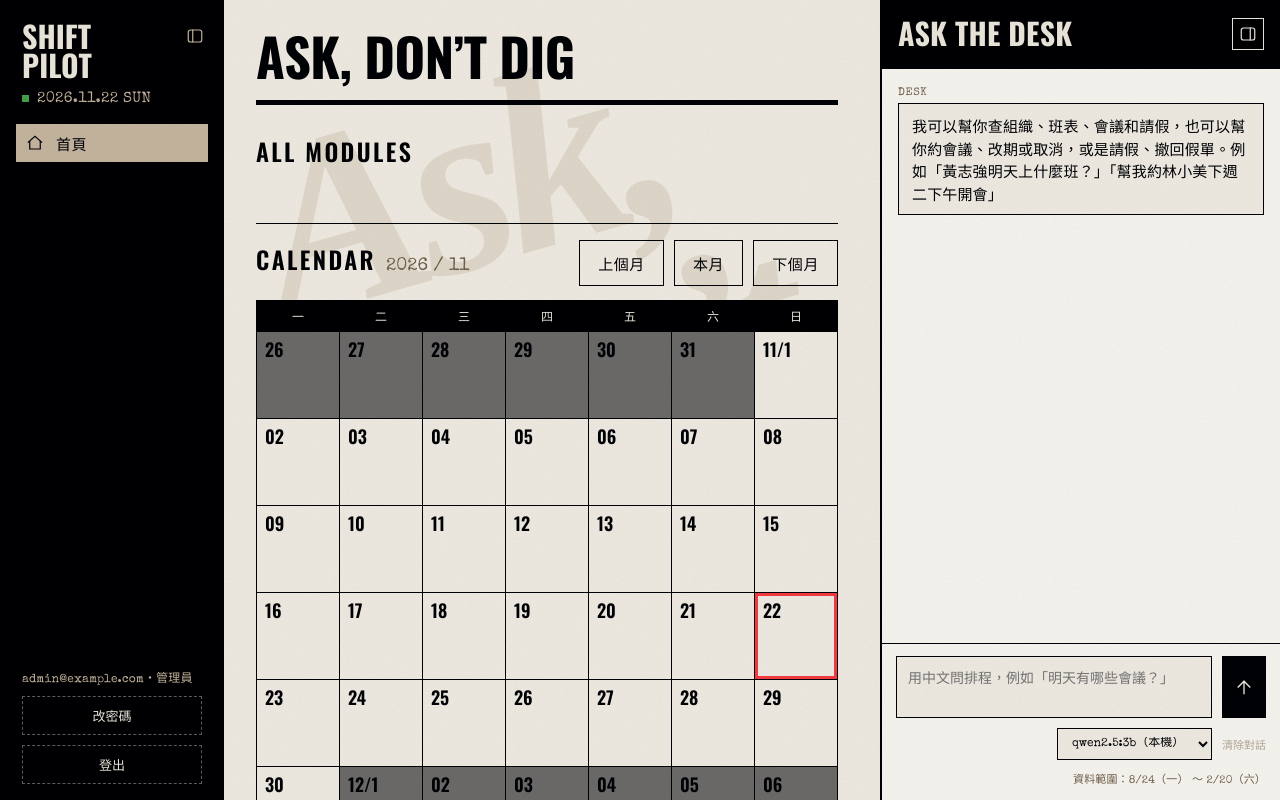
Test: testBookingConfirmCallsApiAndNotes
Expected: the element named "問答面板" is shown, [880, 0, 1279, 799]
Expected: the dropdown named "模型" is shown, [1057, 728, 1212, 760]
Type "幫我排會議" into the text box named "問題" at {"x": 1054, "y": 687}, box [896, 656, 1212, 718]
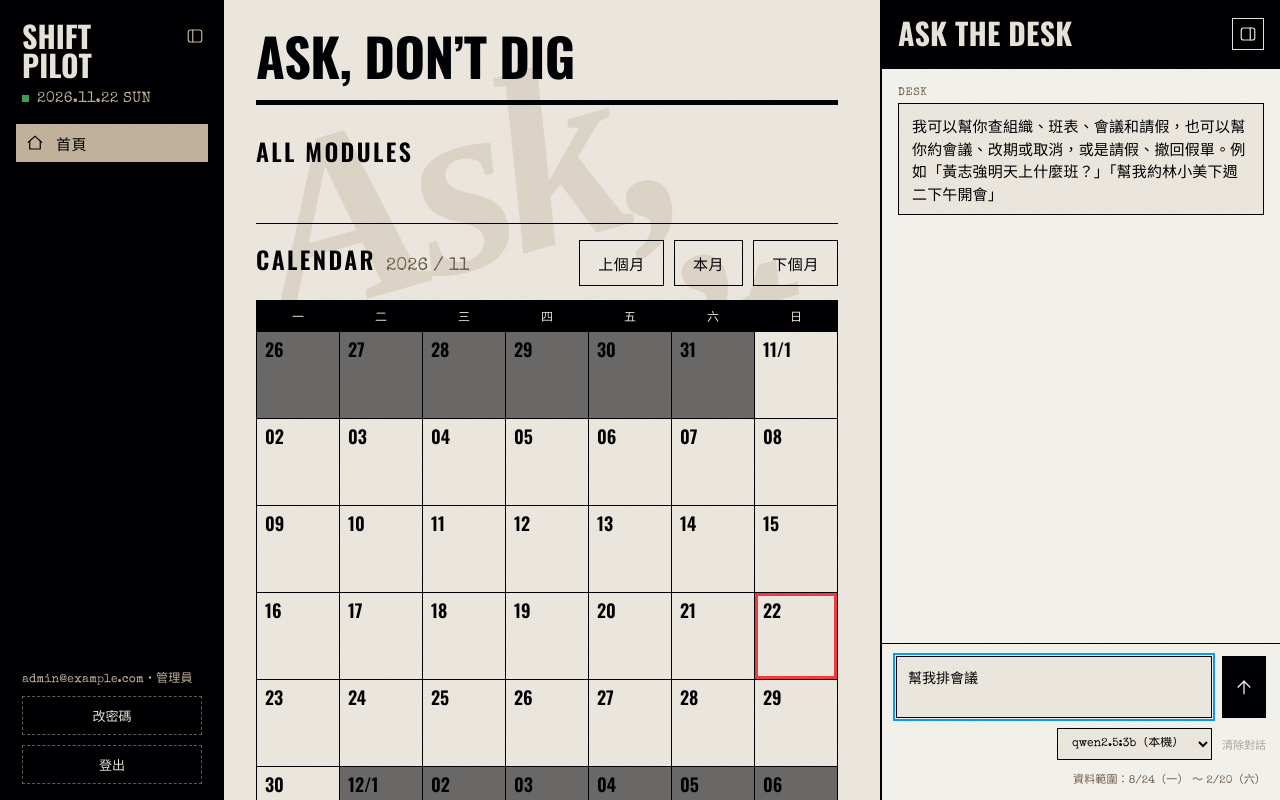
Click the button named "送出" at {"x": 1244, "y": 687}, box [1222, 656, 1266, 718]
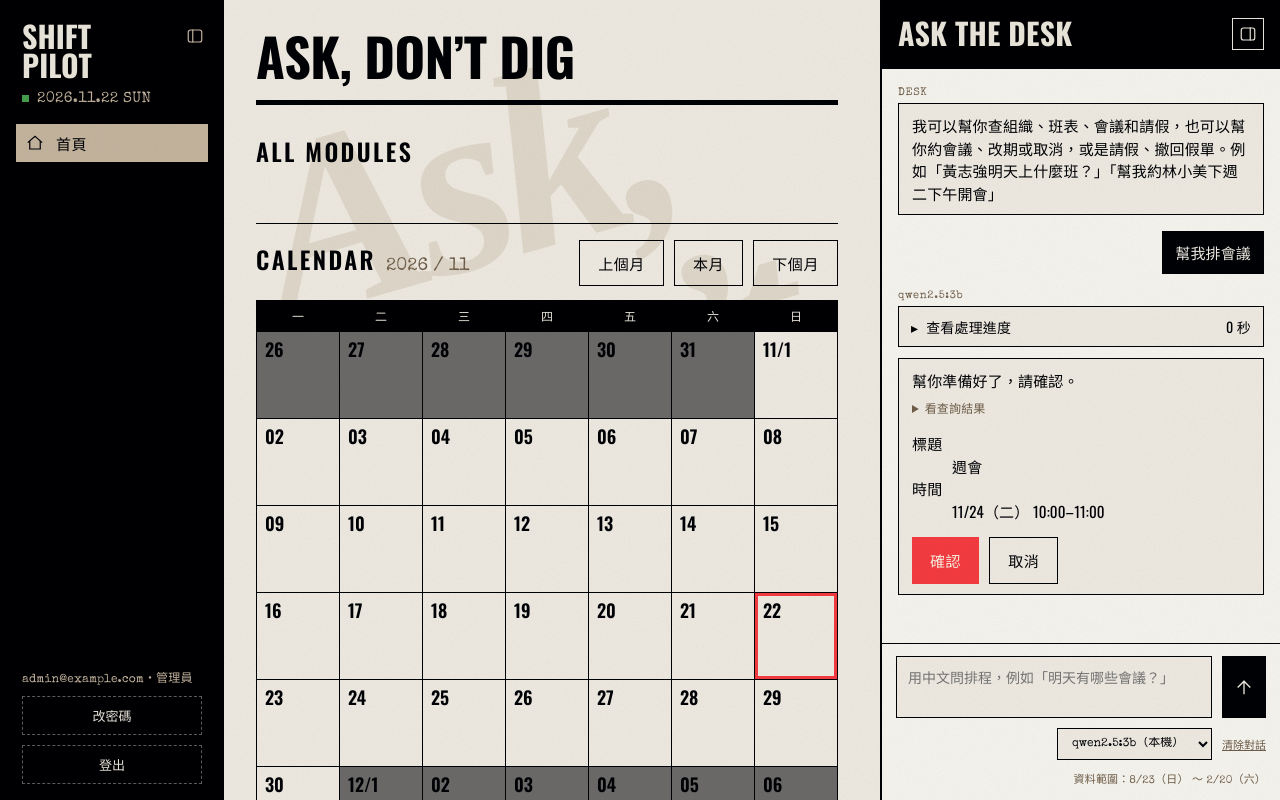
Expected: the text "11/24（二） 10:00–11:00" is shown, [952, 500, 1105, 522]
Click the button "確認" at {"x": 946, "y": 560}, box [912, 537, 979, 584]
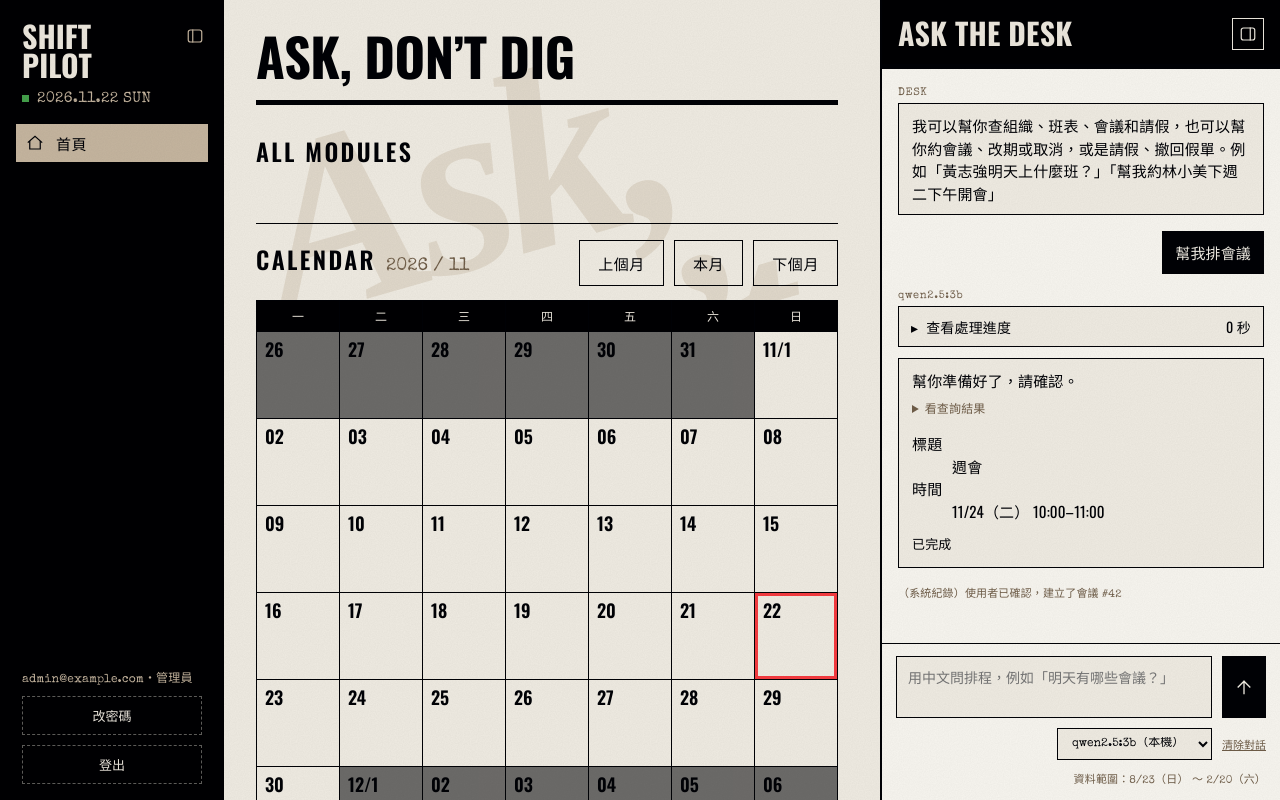
Expected: the text "（系統紀錄）使用者已確認，建立了會議 #42" is shown, [898, 584, 1122, 600]
Expected: the text "已完成" is shown, [912, 540, 952, 553]
